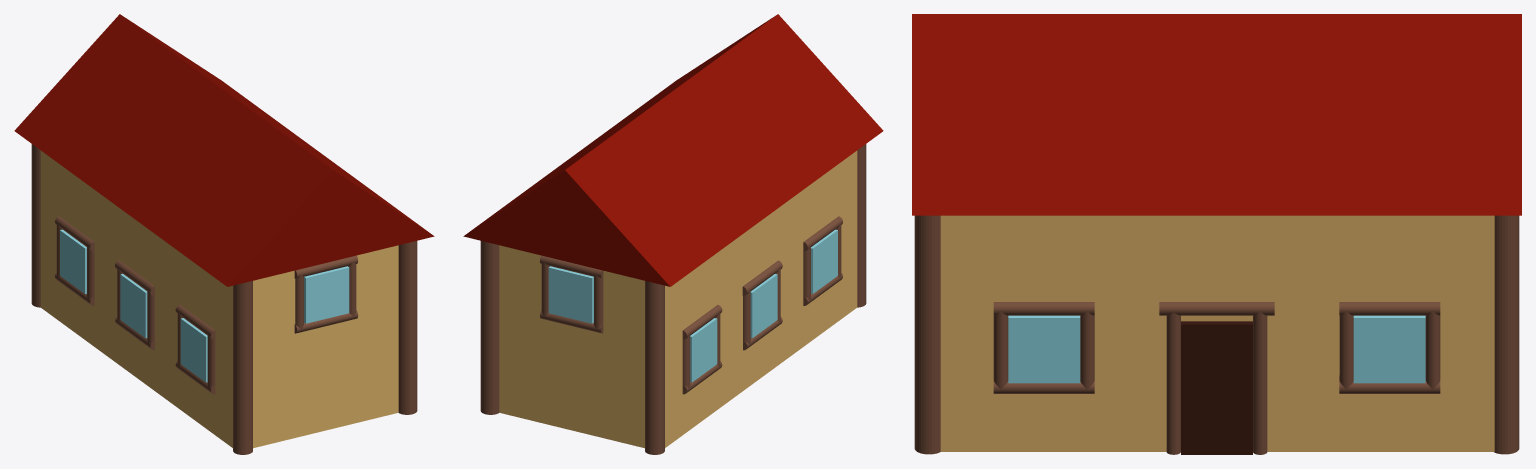
Rendered from House_1.fbx.
3 renders of one model, left to right at view 1: azimuth 30°, elevation 25°; view 2: azimuth 150°, elevation 25°; view 3: azimuth 270°, elevation 25°, orthographic. The views are drawn at different scales.
Parts seen in each view (by area): view 1: Sphere; view 2: Sphere; view 3: Sphere.
Part boxes in pixels (x1,y1,x2,y2): Sphere: (14, 14, 434, 454); Sphere: (463, 14, 883, 454); Sphere: (912, 14, 1521, 454).
Size of the model in its own units: 2378 by 2900 by 4236.
